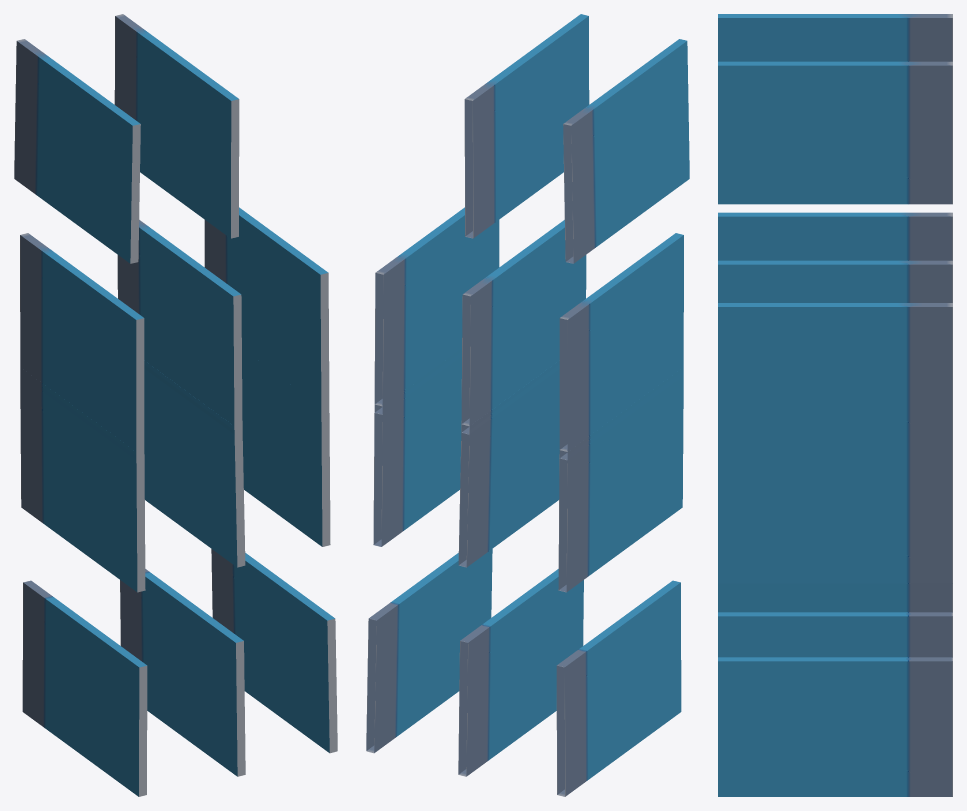
File: wall_2.obj
The picture shows the model from 3 angles, left to right: view 1: azimuth 30°, elevation 25°; view 2: azimuth 150°, elevation 25°; view 3: azimuth 270°, elevation 25°; orthographic projection.
Parts seen in each view (by area): view 1: walls; view 2: walls; view 3: walls.
Part boxes in pixels (left/top/right/bottom): walls: left=14, top=14, right=337, bottom=796; walls: left=366, top=14, right=689, bottom=796; walls: left=718, top=14, right=952, bottom=796.
Bounding box in the file's own units: 2.58 × 8.04 × 2.5.
1 material, 1 textured.
